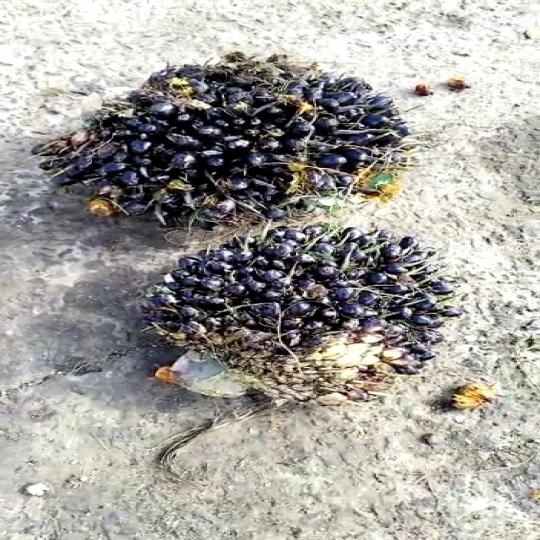mentah: (113, 212, 492, 410), (80, 48, 456, 235)
